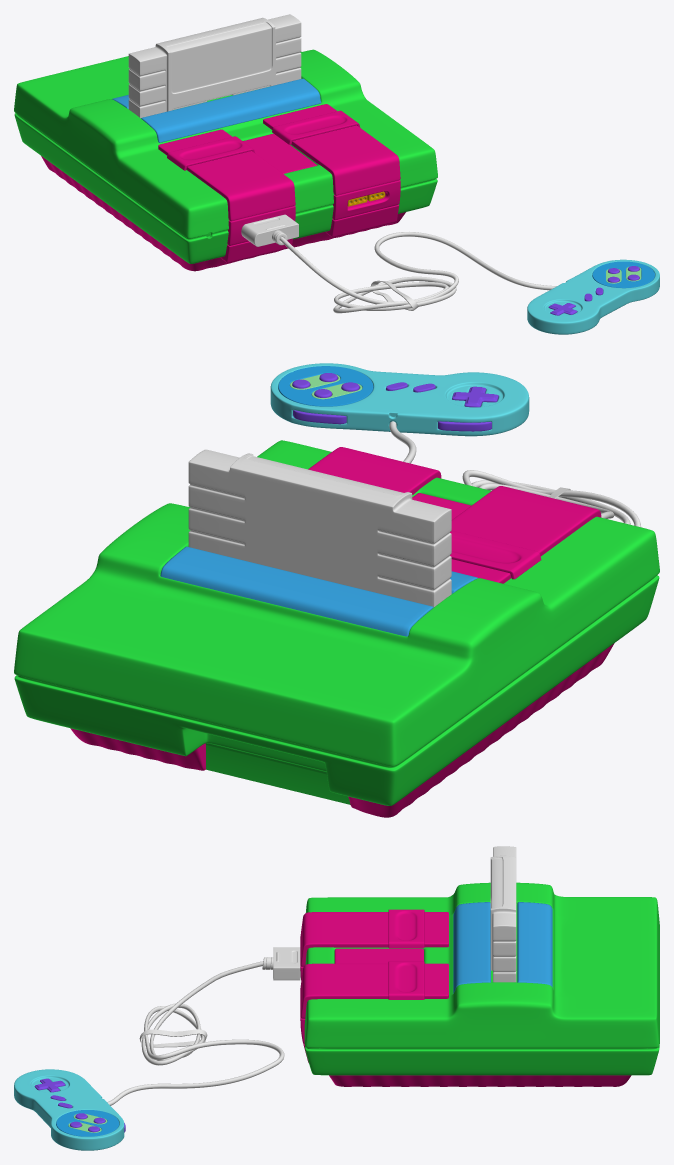
The model's file is SNES_Model.fbx.
3 renders of one model, top to bottom at view 1: azimuth 30°, elevation 25°; view 2: azimuth 150°, elevation 25°; view 3: azimuth 270°, elevation 25°, orthographic. The views are drawn at different scales.
Parts seen in each view (by area): view 1: SNES_Console, cartridgeBase, SNES_Controller, controllerPort; view 2: SNES_Console, cartridgeBase, SNES_Controller, controllerPort; view 3: SNES_Console, SNES_Controller, controllerPort, cartridgeBase.
Boxes of the visible parts, box(x1,y1,x2,y2) form: SNES_Console: box(14, 49, 437, 271); cartridgeBase: box(128, 14, 301, 118); SNES_Controller: box(527, 259, 659, 334); controllerPort: box(241, 214, 556, 313); SNES_Console: box(14, 440, 659, 817); cartridgeBase: box(188, 449, 451, 607); SNES_Controller: box(270, 363, 529, 436); controllerPort: box(389, 421, 640, 527); SNES_Console: box(300, 882, 659, 1086); SNES_Controller: box(14, 1069, 125, 1150); controllerPort: box(107, 947, 300, 1105); cartridgeBase: box(490, 846, 516, 982).
Size of the model in its own units: 16.38 by 6.75 by 25.2.
